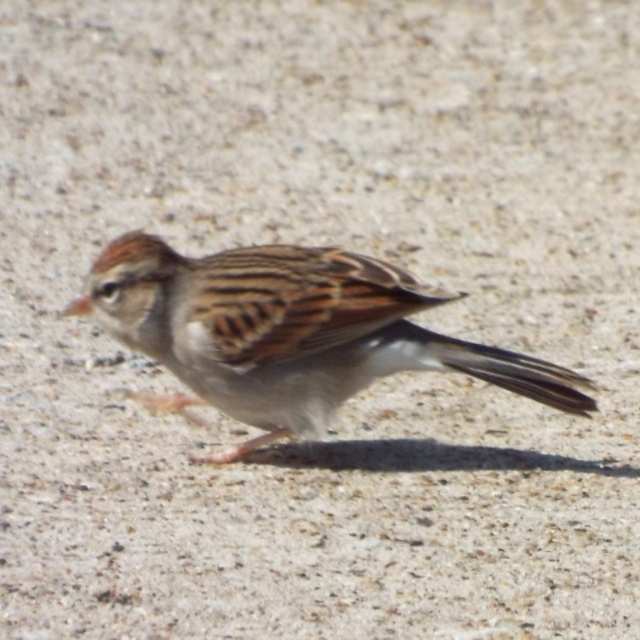Sparrow: (60, 224, 596, 461)
